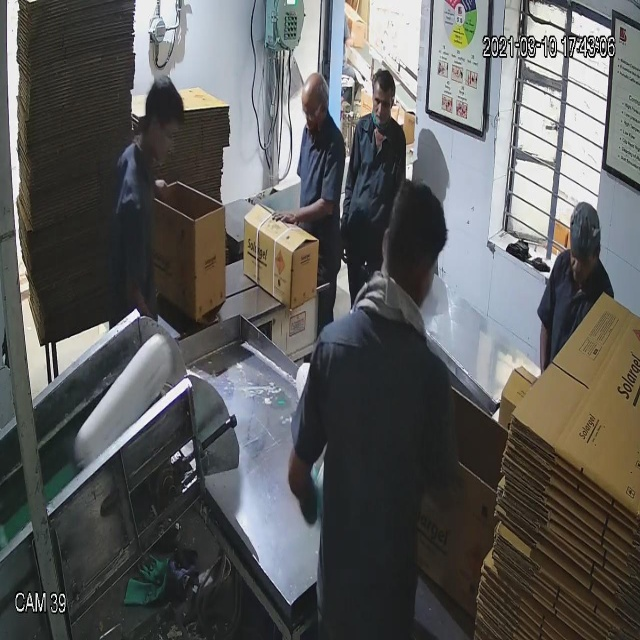Sin_guantes: (271, 196, 342, 234)
